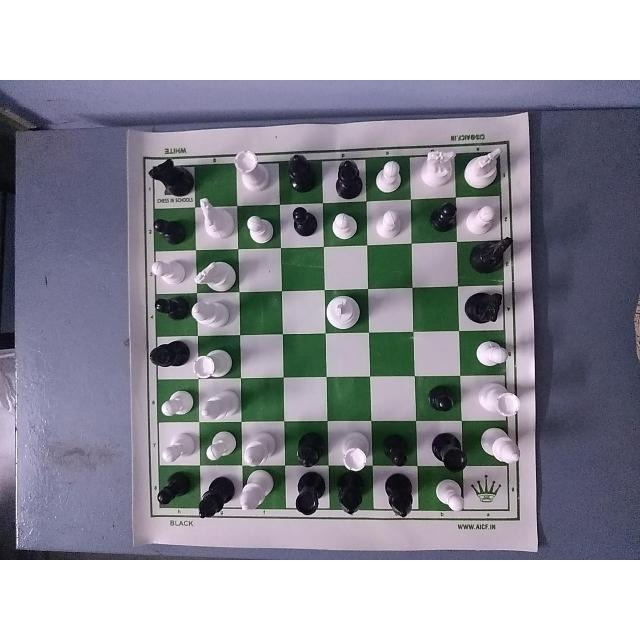black-bishop: (328, 467, 371, 522), (195, 470, 237, 524), (279, 148, 316, 200), (287, 427, 327, 472), (144, 337, 188, 376), (382, 474, 418, 520), (332, 156, 367, 200)
black-knight: (146, 154, 193, 198), (464, 287, 505, 325), (470, 234, 512, 270)
black-pawn: (151, 468, 194, 510), (423, 383, 464, 421), (376, 429, 414, 469), (155, 290, 195, 326), (287, 204, 323, 241), (151, 211, 189, 243), (429, 197, 459, 235)
black-rook: (290, 467, 328, 519), (424, 431, 471, 473)
white-bishop: (234, 470, 280, 513), (197, 378, 239, 422), (479, 428, 523, 468), (188, 296, 236, 328), (244, 423, 278, 467)
white-king: (323, 288, 369, 335)
white-knight: (192, 247, 240, 293), (191, 196, 235, 245), (461, 141, 503, 187), (419, 142, 458, 188)
white-pawn: (154, 425, 200, 467), (200, 425, 241, 465), (326, 208, 370, 244), (240, 210, 282, 247), (466, 338, 511, 372), (429, 478, 467, 516), (154, 381, 194, 417), (371, 208, 410, 242), (465, 201, 501, 237), (149, 254, 189, 286), (375, 155, 407, 195)
white-rook: (228, 146, 275, 199), (337, 424, 376, 472), (479, 382, 525, 420), (192, 345, 232, 381)
